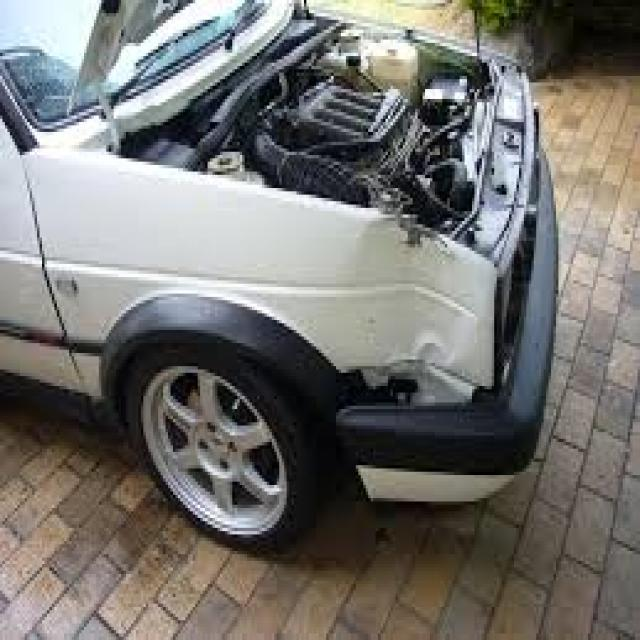moderate: (0, 0, 535, 494)
